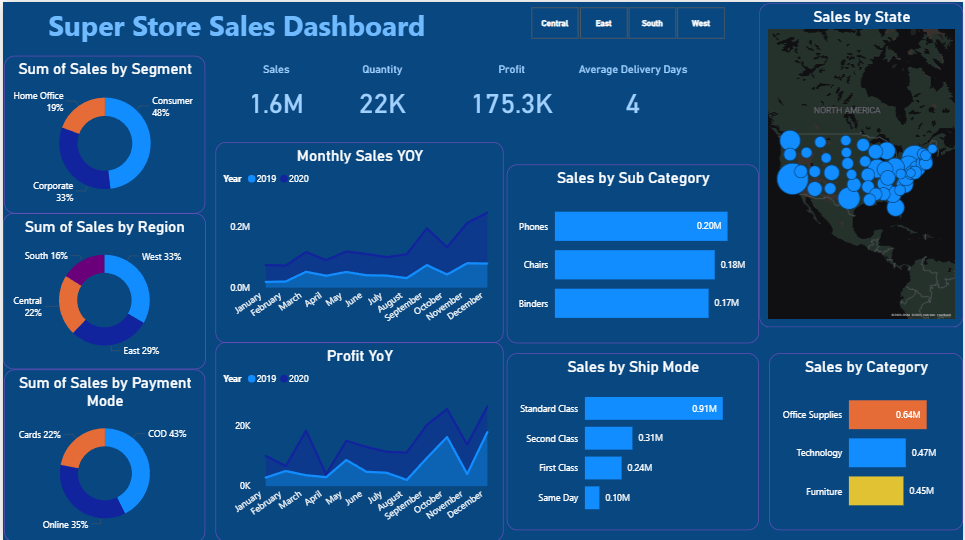

What the dashboard file says about the page in this screenshot:
{"tool":"powerbi","page":{"name":"Insights","canvas":[1280,720],"ordinal":0},"visuals":[{"type":"clusteredBarChart","title":"Sales by Category","fields":{"Category":["SuperStore_Sales_Dataset.Category"],"Y":["Sum(SuperStore_Sales_Dataset.Sales)"]},"box":[1022,468,258,236],"z":0},{"type":"clusteredBarChart","title":"Sales by Sub Category","fields":{"Y":["Sum(SuperStore_Sales_Dataset.Sales)"],"Category":["SuperStore_Sales_Dataset.Sub-Category"]},"box":[672,216,336,238],"z":1000},{"type":"clusteredBarChart","title":"Sales by Ship Mode","fields":{"Y":["Sum(SuperStore_Sales_Dataset.Sales)"],"Category":["SuperStore_Sales_Dataset.Ship Mode"]},"box":[672,468,336,236],"z":2000},{"type":"stackedAreaChart","title":"Monthly Sales YOY","fields":{"Category":["SuperStore_Sales_Dataset.Order Date.Variation.Date Hierarchy.Month"],"Y":["Sum(SuperStore_Sales_Dataset.Sales)"],"Series":["SuperStore_Sales_Dataset.Order Date.Variation.Date Hierarchy.Year"]},"box":[284,186,384,268],"z":3000},{"type":"stackedAreaChart","title":"Profit YoY","fields":{"Category":["SuperStore_Sales_Dataset.Order Date.Variation.Date Hierarchy.Month"],"Series":["SuperStore_Sales_Dataset.Order Date.Variation.Date Hierarchy.Year"],"Y":["Sum(SuperStore_Sales_Dataset.Profit)"]},"box":[284,454,384,266],"z":4000},{"type":"azureMap","title":"Sales by State","fields":{"Category":["SuperStore_Sales_Dataset.State"],"Size":["Sum(SuperStore_Sales_Dataset.Sales)"]},"box":[1008,2,272,432],"z":5000},{"type":"donutChart","fields":{"Category":["SuperStore_Sales_Dataset.Segment"],"Y":["Sum(SuperStore_Sales_Dataset.Sales)"]},"box":[2,72,268,210],"z":6000},{"type":"donutChart","fields":{"Category":["SuperStore_Sales_Dataset.Region"],"Y":["Sum(SuperStore_Sales_Dataset.Sales)"]},"box":[0,282,270,208],"z":7000},{"type":"donutChart","fields":{"Y":["Sum(SuperStore_Sales_Dataset.Sales)"],"Category":["SuperStore_Sales_Dataset.Payment Mode"]},"box":[2,490,268,230],"z":8000},{"type":"slicer","fields":{"Values":["SuperStore_Sales_Dataset.Region"]},"box":[678,0,308,56],"z":9000},{"type":"textbox","box":[2,0,620,72],"z":10000},{"type":"card","title":"Sales","fields":{"Values":["Sum(SuperStore_Sales_Dataset.Sales)"]},"box":[308,82,112,84],"z":11000},{"type":"card","title":"Quantity","fields":{"Values":["Sum(SuperStore_Sales_Dataset.Quantity)"]},"box":[450,82,112,84],"z":12000},{"type":"card","title":"Profit","fields":{"Values":["Sum(SuperStore_Sales_Dataset.Profit)"]},"box":[598,82,160,84],"z":13000},{"type":"card","title":"Average Delivery Days","fields":{"Values":["Avg(SuperStore_Sales_Dataset.AvgDeliveryTime)"]},"box":[760,82,160,84],"z":14000}]}

Visuals, with their boxes in screenshot pixels (x1, y1, x2, y2), scaled from the page's 1280x720 canvas onto the 965x540 screenshot:
"Sales by Category" clusteredBarChart: [770, 351, 964, 528]
"Sales by Sub Category" clusteredBarChart: [507, 162, 760, 340]
"Sales by Ship Mode" clusteredBarChart: [507, 351, 760, 528]
"Monthly Sales YOY" stackedAreaChart: [214, 140, 504, 340]
"Profit YoY" stackedAreaChart: [214, 340, 504, 539]
"Sales by State" azureMap: [760, 2, 964, 326]
donutChart - SuperStore_Sales_Dataset.Segment x Sum(SuperStore_Sales_Dataset.Sales): [2, 54, 204, 212]
donutChart - SuperStore_Sales_Dataset.Region x Sum(SuperStore_Sales_Dataset.Sales): [0, 212, 204, 368]
donutChart - Sum(SuperStore_Sales_Dataset.Sales) x SuperStore_Sales_Dataset.Payment Mode: [2, 368, 204, 539]
slicer - SuperStore_Sales_Dataset.Region: [511, 0, 743, 42]
textbox: [2, 0, 469, 54]
"Sales" card: [232, 62, 317, 124]
"Quantity" card: [339, 62, 424, 124]
"Profit" card: [451, 62, 571, 124]
"Average Delivery Days" card: [573, 62, 694, 124]
